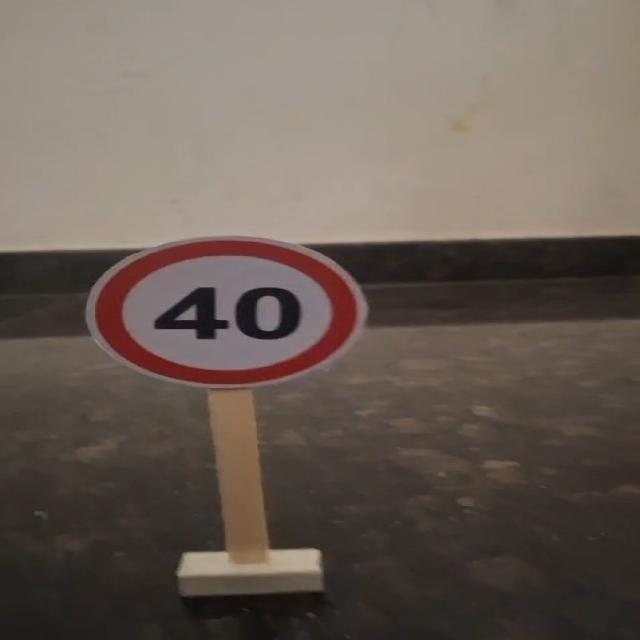Speed40: (78, 230, 370, 391)
